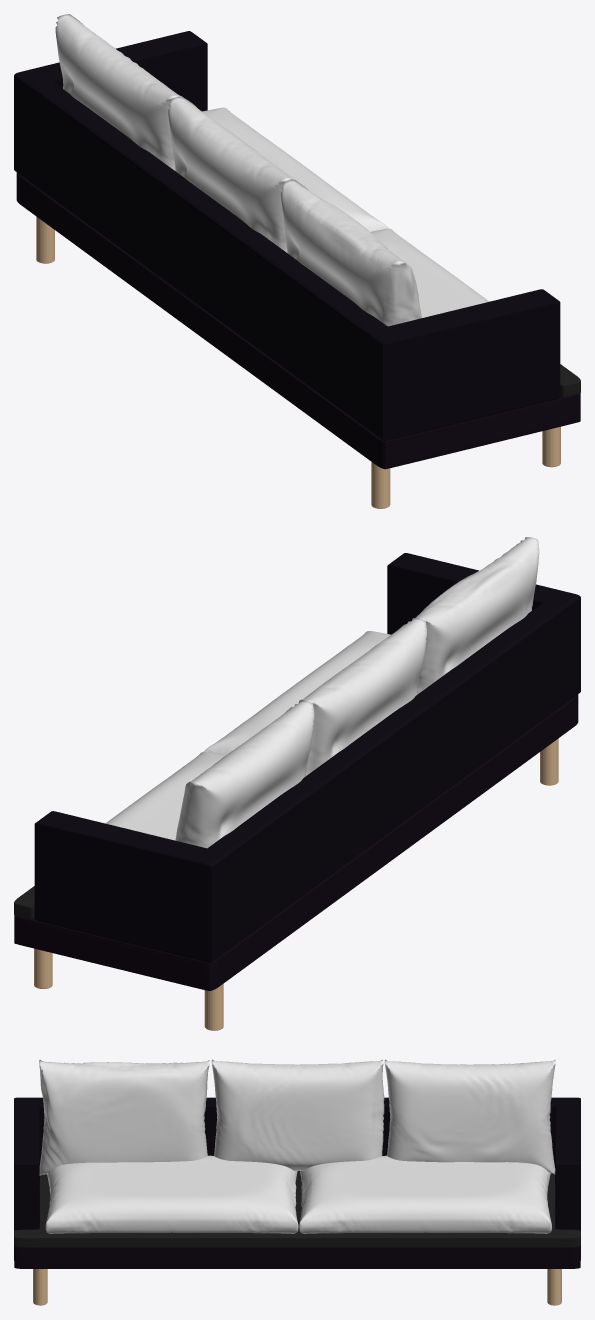
Rendered from doublesofa-2.fbx.
The picture shows the model from 3 angles, top to bottom: view 1: azimuth 30°, elevation 25°; view 2: azimuth 150°, elevation 25°; view 3: azimuth 270°, elevation 25°; orthographic projection. The views are drawn at different scales.
Visible parts, largest first — view 1: Cube.001, Cube, Cube.005, Cube.004, Cube.003, Cube.007, Cube.006, Circle; view 2: Cube.001, Cube, Cube.003, Cube.005, Cube.004, Cube.006, Cube.007, Circle; view 3: Cube.006, Cube.007, Cube.004, Cube.005, Cube.003, Cube, Cube.002, Cube.001, Circle.
Boxes of the visible parts, box(x1,y1,x2,y2) form: Cube.001: box(14, 31, 560, 440); Cube: box(16, 172, 580, 469); Cube.005: box(281, 180, 421, 326); Cube.004: box(168, 96, 296, 252); Cube.003: box(55, 14, 181, 170); Cube.007: box(370, 228, 488, 317); Cube.006: box(202, 107, 389, 231); Circle: box(36, 216, 560, 508); Cube.001: box(34, 553, 580, 962); Cube: box(14, 694, 578, 990); Cube.003: box(175, 700, 314, 848); Cube.005: box(412, 537, 539, 693); Cube.004: box(298, 618, 426, 775); Cube.006: box(105, 751, 225, 840); Cube.007: box(203, 631, 390, 755); Circle: box(34, 738, 558, 1030); Cube.006: box(299, 1155, 551, 1233); Cube.007: box(45, 1155, 298, 1233); Cube.004: box(211, 1059, 384, 1170); Cube.005: box(39, 1060, 209, 1175); Cube.003: box(384, 1059, 555, 1174); Cube: box(14, 1245, 580, 1268); Cube.002: box(14, 1171, 580, 1246); Cube.001: box(14, 1097, 580, 1231); Circle: box(33, 1269, 561, 1305).
Size of the model in its own units: 397 by 143 by 125.
